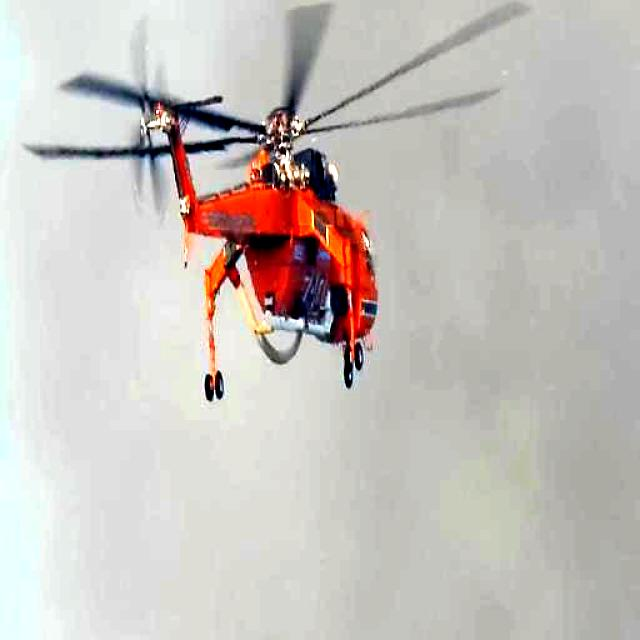drone: (40, 0, 509, 434)
